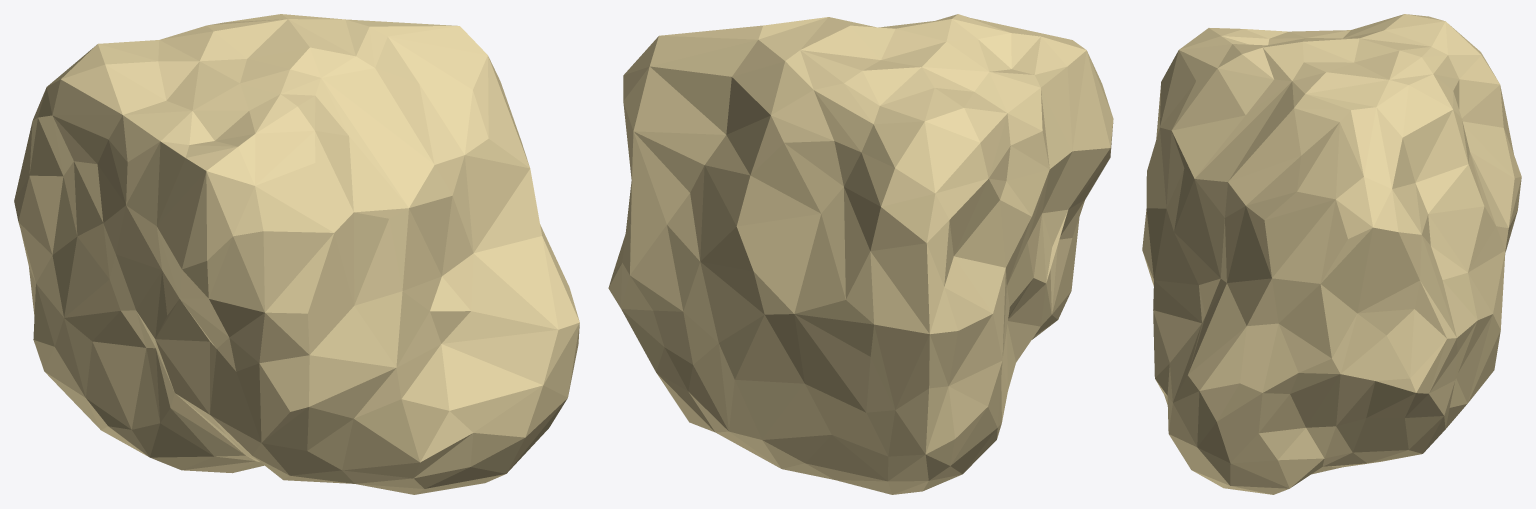
File: Asteroid (39).fbx
3 views of the same model, side by side, from view 1: azimuth 30°, elevation 25°; view 2: azimuth 150°, elevation 25°; view 3: azimuth 270°, elevation 25° (orthographic). The views are drawn at different scales.
Parts seen in each view (by area): view 1: Asteroid105; view 2: Asteroid105; view 3: Asteroid105.
Boxes of the visible parts, <box> form: Asteroid105: <box>14,14,579,494</box>; Asteroid105: <box>608,14,1113,494</box>; Asteroid105: <box>1142,14,1521,494</box>.
Size of the model in its own units: 257 by 254 by 236.
